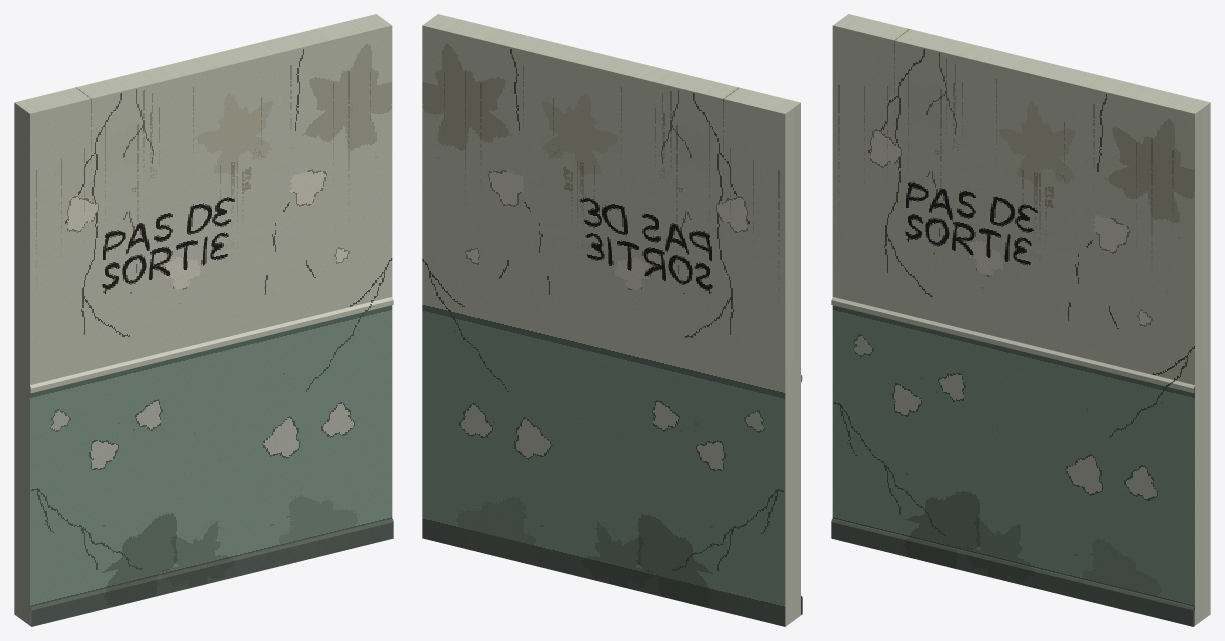
Rendered from wall_4_pas_de_sortie.glb.
3 views of the same model, side by side, from view 1: azimuth 30°, elevation 25°; view 2: azimuth 150°, elevation 25°; view 3: azimuth 330°, elevation 25° (orthographic).
Visible parts, largest first — view 1: wall_body; view 2: wall_body; view 3: wall_body.
Boxes of the visible parts, box(x1,y1,x2,y2) form: wall_body: box(14, 14, 393, 626); wall_body: box(422, 14, 802, 626); wall_body: box(831, 14, 1210, 626).
Bounding box in the file's own units: 2 × 2.7 × 0.1656.
Materials: 1 (1 with a texture image).
